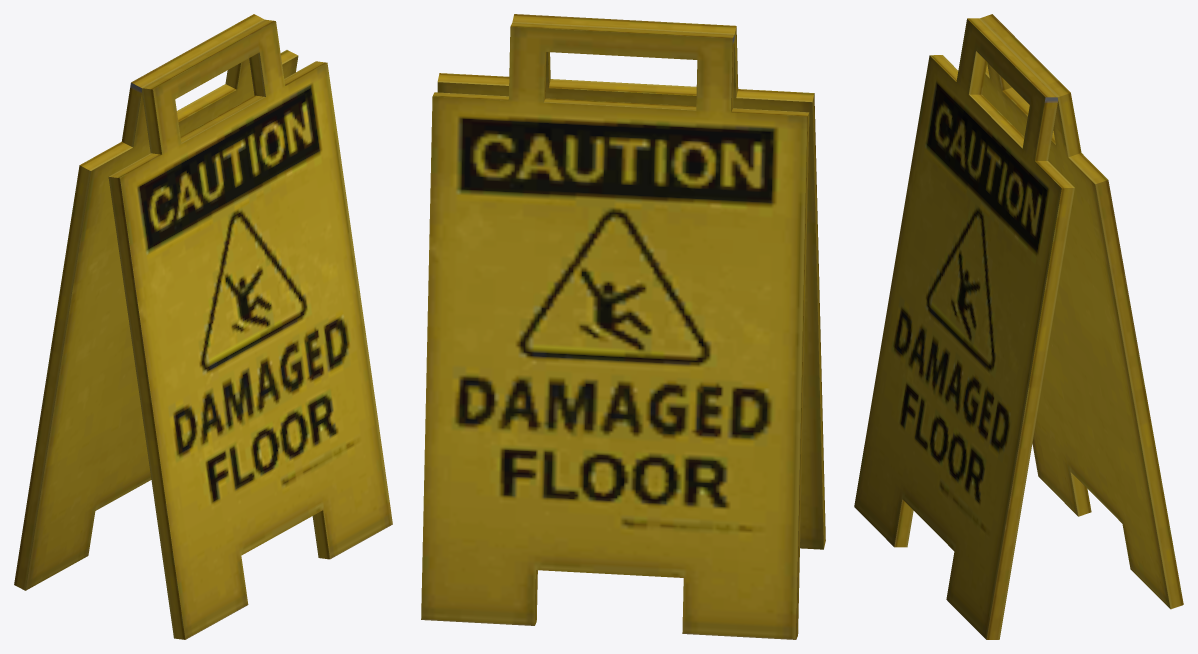
File: Office_Caution_1.fbx
3 renders of one model, left to right at view 1: azimuth 30°, elevation 25°; view 2: azimuth 150°, elevation 25°; view 3: azimuth 270°, elevation 25°, orthographic. The views are drawn at different scales.
Parts seen in each view (by area): view 1: Office_Caution_1; view 2: Office_Caution_1; view 3: Office_Caution_1.
Part boxes in pixels (left/top/right/bottom): Office_Caution_1: left=14, top=14, right=392, bottom=639; Office_Caution_1: left=421, top=14, right=825, bottom=639; Office_Caution_1: left=854, top=14, right=1183, bottom=639.
Size of the model in its own units: 1.1 by 1.53 by 0.9079.
